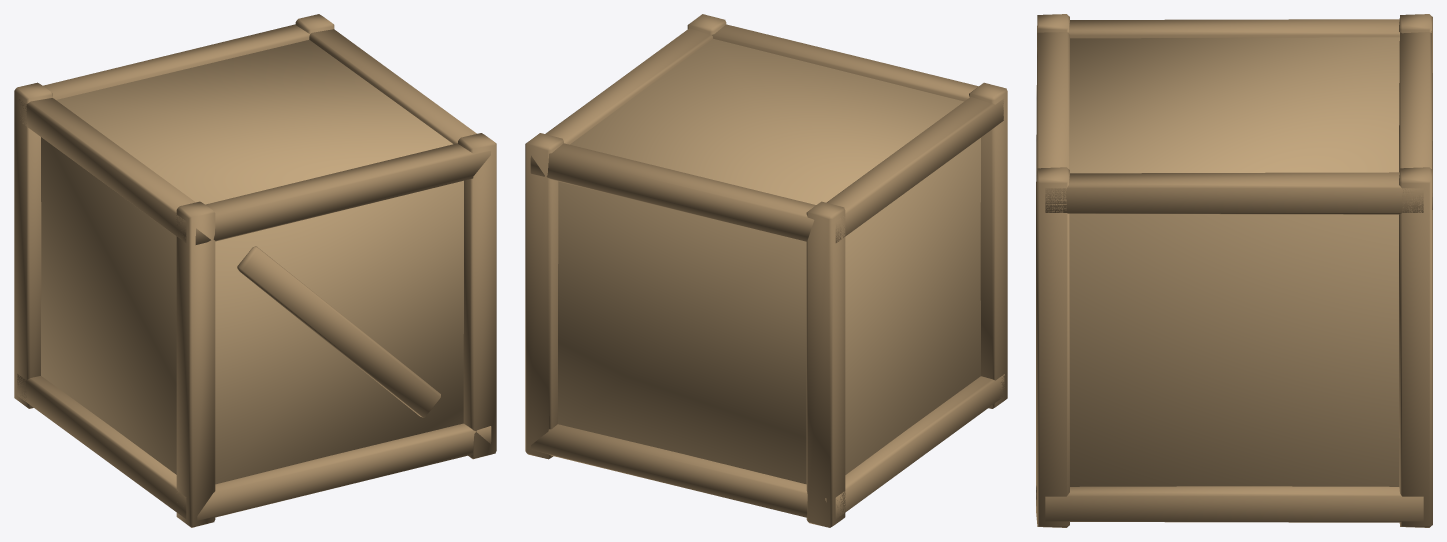
The model's file is prop_crate.glb.
The picture shows the model from 3 angles, left to right: view 1: azimuth 30°, elevation 25°; view 2: azimuth 150°, elevation 25°; view 3: azimuth 270°, elevation 25°; orthographic projection. The views are drawn at different scales.
Visible parts, largest first — view 1: prop_crate; view 2: prop_crate; view 3: prop_crate.
Boxes of the visible parts, <box> form: prop_crate: <box>14,14,496,527</box>; prop_crate: <box>525,14,1007,527</box>; prop_crate: <box>1036,14,1432,527</box>.
Bounding box in the file's own units: 0.7 × 0.68 × 0.7.
